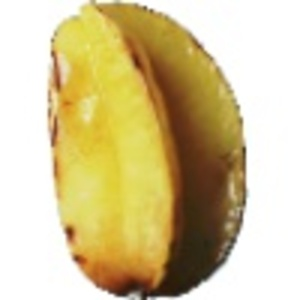carambola: (46, 1, 248, 300)
